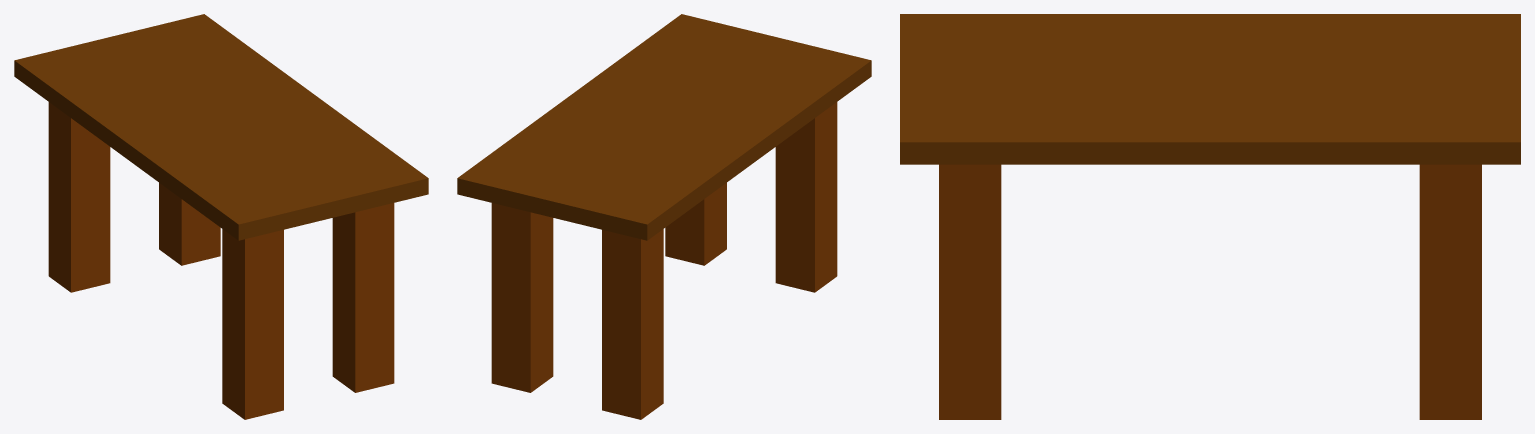
The picture shows the model from 3 angles, left to right: view 1: azimuth 30°, elevation 25°; view 2: azimuth 150°, elevation 25°; view 3: azimuth 270°, elevation 25°; orthographic projection. The views are drawn at different scales.
Visible parts, largest first — view 1: Cube; view 2: Cube; view 3: Cube.
Part boxes in pixels (bbox=[...]): Cube: bbox=[14, 14, 428, 419]; Cube: bbox=[457, 14, 871, 419]; Cube: bbox=[900, 14, 1520, 419].
Size of the model in its own units: 268 by 284 by 548.
